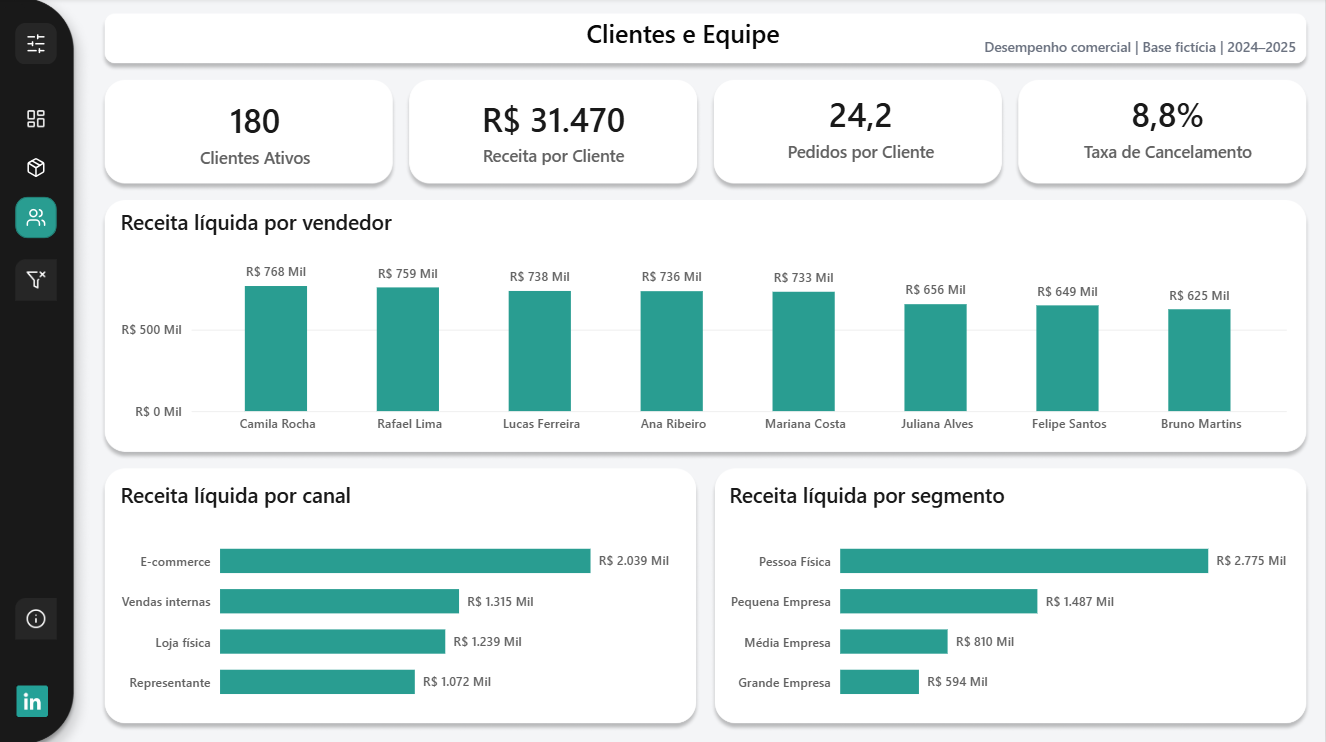

This screenshot's page, from the dashboard's own definition file:
{"tool":"powerbi","page":{"name":"Clientes e Equipe","canvas":[1280,720],"ordinal":2},"visuals":[{"type":"card","fields":{"Values":["_Medidas.Clientes Ativos"]},"box":[117.7,82,257.9,95.2],"z":0},{"type":"shape","title":"btn_ativo","box":[16,192,40,40],"z":0,"group":"g1"},{"type":"image","title":"btn_abrir","box":[16,24,40,40],"z":1000,"group":"g1"},{"type":"clusteredBarChart","title":"Receita líquida por canal","fields":{"Category":["FatoVendas.Canal"],"Y":["_Medidas.Receita Liquída"]},"box":[101.4,451.5,566.5,253.6],"z":1000},{"type":"clusteredColumnChart","title":"Receita líquida por vendedor","fields":{"Category":["DimVendedores.Vendedor"],"Y":["_Medidas.Receita Liquída"]},"box":[101.4,188,1157.8,251.1],"z":2000},{"type":"image","title":"nav_3","box":[16,192,40,40],"z":2000,"group":"g1"},{"type":"card","fields":{"Values":["_Medidas.Receita por Cliente"]},"box":[403.3,79.3,264.5,97.9],"z":3000},{"type":"image","title":"nav_2","box":[16,144,40,40],"z":3000,"group":"g1"},{"type":"card","fields":{"Values":["_Medidas.Pedidos por Cliente"]},"box":[728.6,71.4,206.3,105.8],"z":4000},{"type":"image","title":"nav_1","box":[16,96,40,40],"z":4000,"group":"g1"},{"type":"clusteredBarChart","title":"Receita líquida por segmento","fields":{"Category":["DimClientes.Segmento"],"Y":["_Medidas.Receita Liquída"]},"box":[689,451.5,570.2,253.6],"z":5000},{"type":"textbox","box":[935.1,37.4,316.7,29],"z":6000},{"type":"card","fields":{"Values":["_Medidas.Taxa de Cancelamento"]},"box":[1024.3,77.1,207.8,94],"z":7000},{"type":"group","id":"g1","title":"botões_navegacao","box":[16,24,40,208],"z":9000},{"type":"textbox","box":[567.5,18.1,211.9,40.4],"z":10000},{"type":"image","title":"linkedin","box":[16.7,663.3,30,30],"z":11000},{"type":"image","title":"Filtro","box":[16,252,40,40],"z":13000},{"type":"cardVisual","title":"qtd_filtros","fields":{"Data":["_Medidas.filtro"]},"box":[5,3,20,20],"z":14000},{"type":"image","title":"btn_sobre","box":[15.7,578.6,40,40],"z":15000}]}

Visuals, with their boxes on the page's 1280x720 design canvas (x1, y1, x2, y2). These are canvas units, not pixel positions in the 1326x742 screenshot, which may show the page scaled, cropped or inside an application window:
card - _Medidas.Clientes Ativos: (left=118, top=82, right=376, bottom=177)
"btn_ativo" shape: (left=16, top=192, right=56, bottom=232)
"btn_abrir" image: (left=16, top=24, right=56, bottom=64)
"Receita líquida por canal" clusteredBarChart: (left=101, top=452, right=668, bottom=705)
"Receita líquida por vendedor" clusteredColumnChart: (left=101, top=188, right=1259, bottom=439)
"nav_3" image: (left=16, top=192, right=56, bottom=232)
card - _Medidas.Receita por Cliente: (left=403, top=79, right=668, bottom=177)
"nav_2" image: (left=16, top=144, right=56, bottom=184)
card - _Medidas.Pedidos por Cliente: (left=729, top=71, right=935, bottom=177)
"nav_1" image: (left=16, top=96, right=56, bottom=136)
"Receita líquida por segmento" clusteredBarChart: (left=689, top=452, right=1259, bottom=705)
textbox: (left=935, top=37, right=1252, bottom=66)
card - _Medidas.Taxa de Cancelamento: (left=1024, top=77, right=1232, bottom=171)
"botões_navegacao" group: (left=16, top=24, right=56, bottom=232)
textbox: (left=568, top=18, right=779, bottom=58)
"linkedin" image: (left=17, top=663, right=47, bottom=693)
"Filtro" image: (left=16, top=252, right=56, bottom=292)
"qtd_filtros" cardVisual: (left=5, top=3, right=25, bottom=23)
"btn_sobre" image: (left=16, top=579, right=56, bottom=619)
